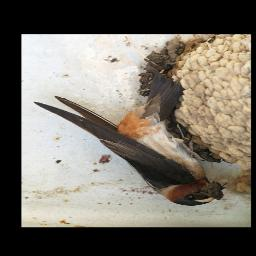Swallow: (32, 94, 224, 206)
